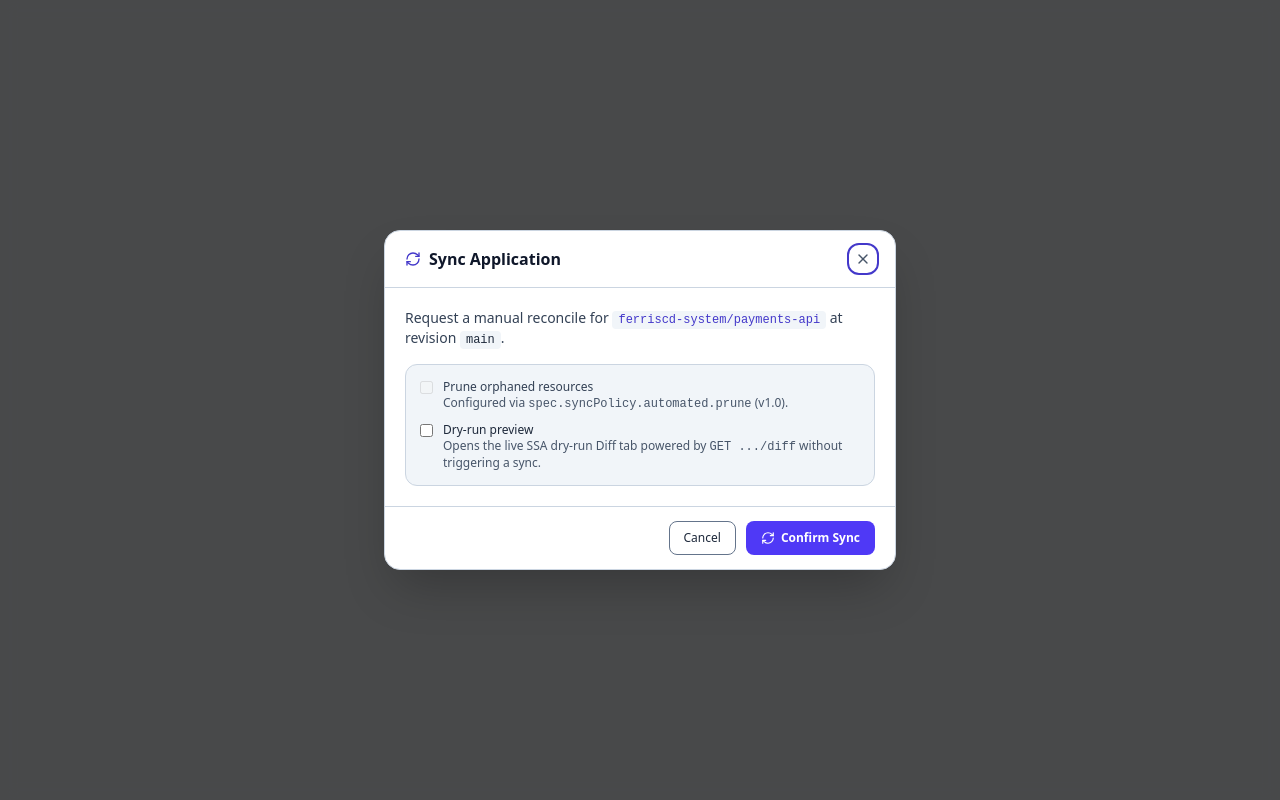
SyncModal & RollbackModal (T16.4 & Trap Guard T16.4) › submits manual sync request and handles RBAC 403 Forbidden gracefully without crashing
The image size is (1280, 800).
Click the button "Confirm Sync". click: (810, 538)
box: x1=746 y1=521 x2=875 y2=555
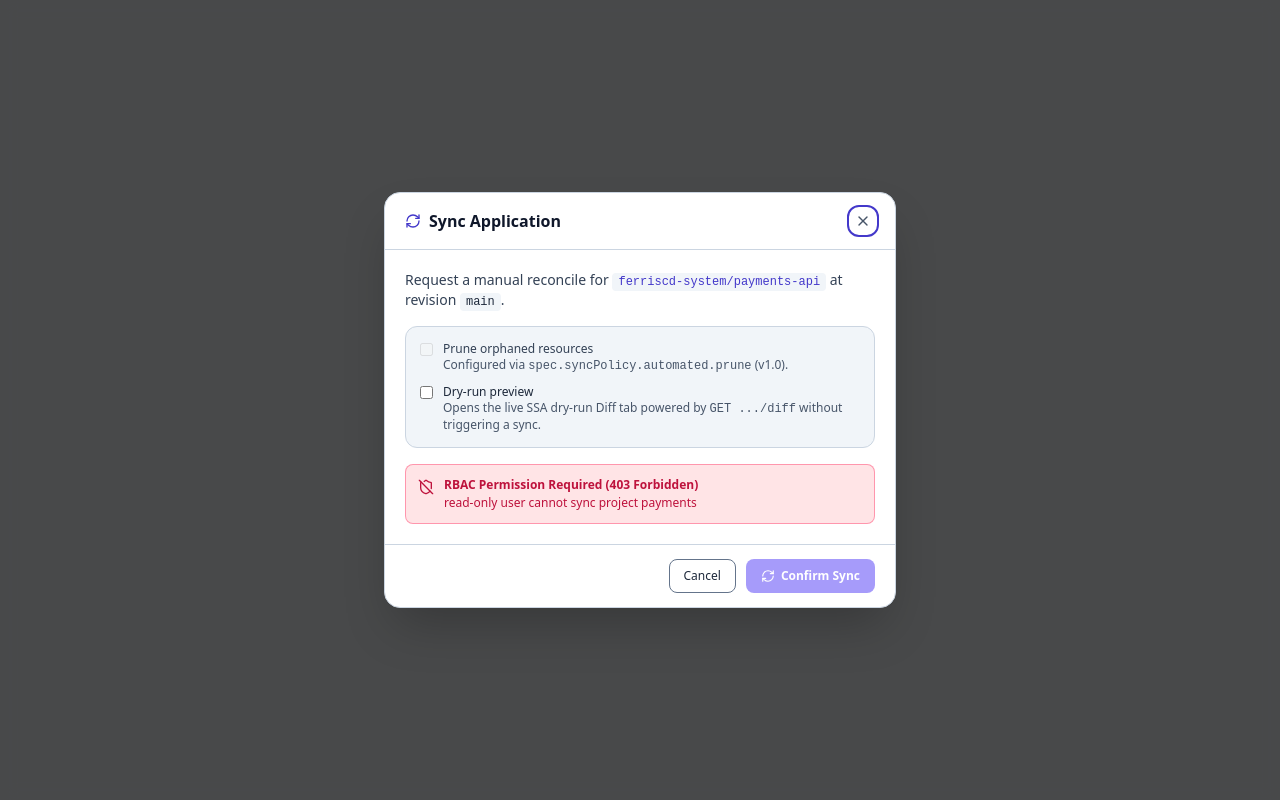
Expected: the message with test id "sync-rbac-forbidden" shows "read-only user cannot sync project payments", x1=444 y1=494 x2=697 y2=511
Expected: the button "Confirm Sync" is disabled, x1=746 y1=559 x2=875 y2=593
